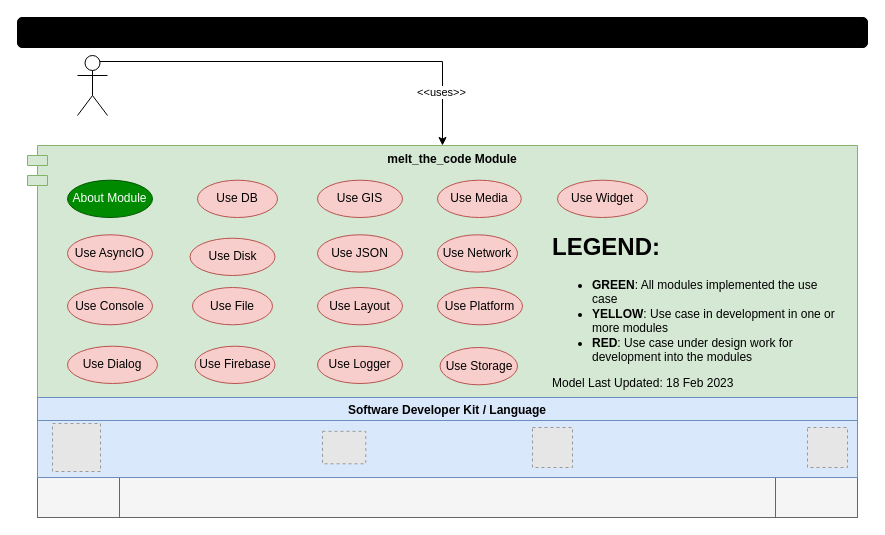
Image size: 885x535. Some labels were removed from this diagram. Grey dashed boxes stand in for pictures. The shapes that lost their labels are listed below. From the top down, each one's centre as x and y in pixels, then its label:
(x=442, y=32): Use Case Model
(x=92, y=85): Software Application
(x=447, y=497): Operating System
